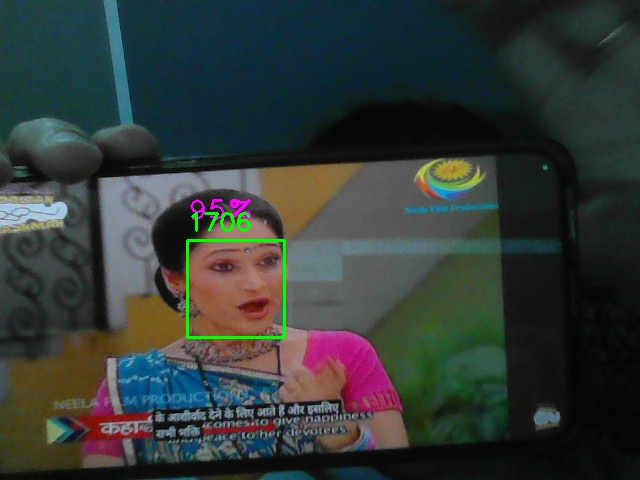fake: (187, 240, 285, 338)
